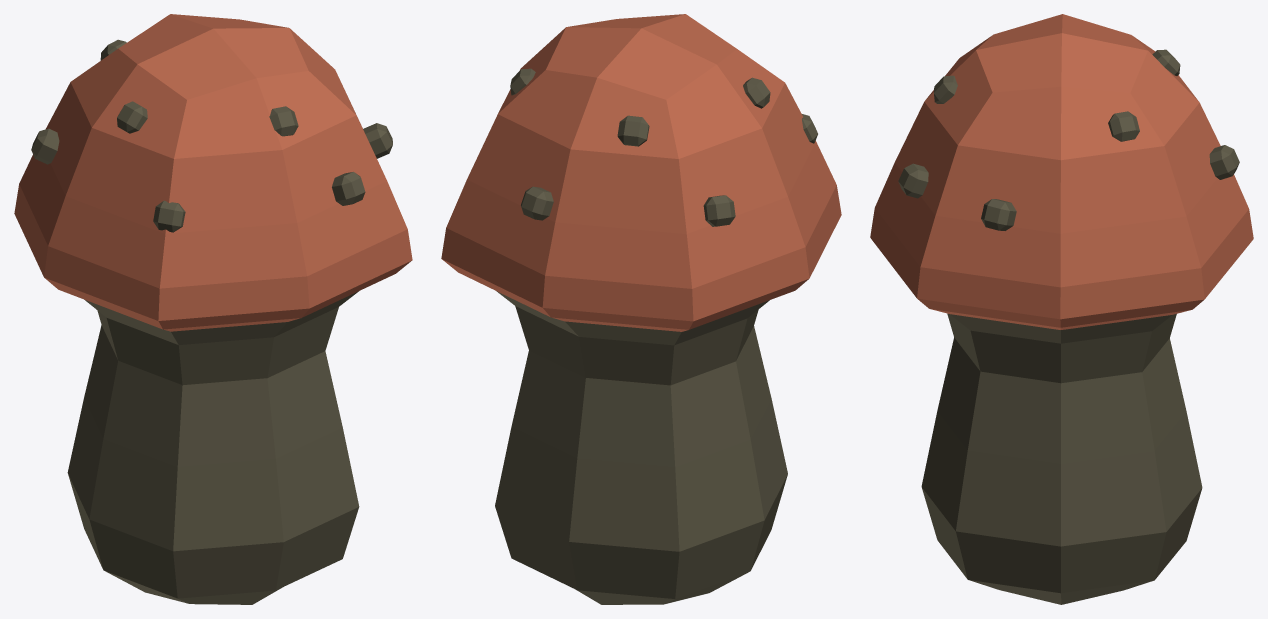
Rendered from fungus_mushroom_2.glb.
The picture shows the model from 3 angles, left to right: view 1: azimuth 30°, elevation 25°; view 2: azimuth 150°, elevation 25°; view 3: azimuth 270°, elevation 25°; orthographic projection.
Parts seen in each view (by area): view 1: Mushroom_2_Cube.045; view 2: Mushroom_2_Cube.045; view 3: Mushroom_2_Cube.045.
Boxes of the visible parts, x1,y1,x2,y2 form: Mushroom_2_Cube.045: (14,14,412,604); Mushroom_2_Cube.045: (441,14,841,604); Mushroom_2_Cube.045: (870,14,1253,604).
Size of the model in its own units: 0.253 by 0.4 by 0.253.
